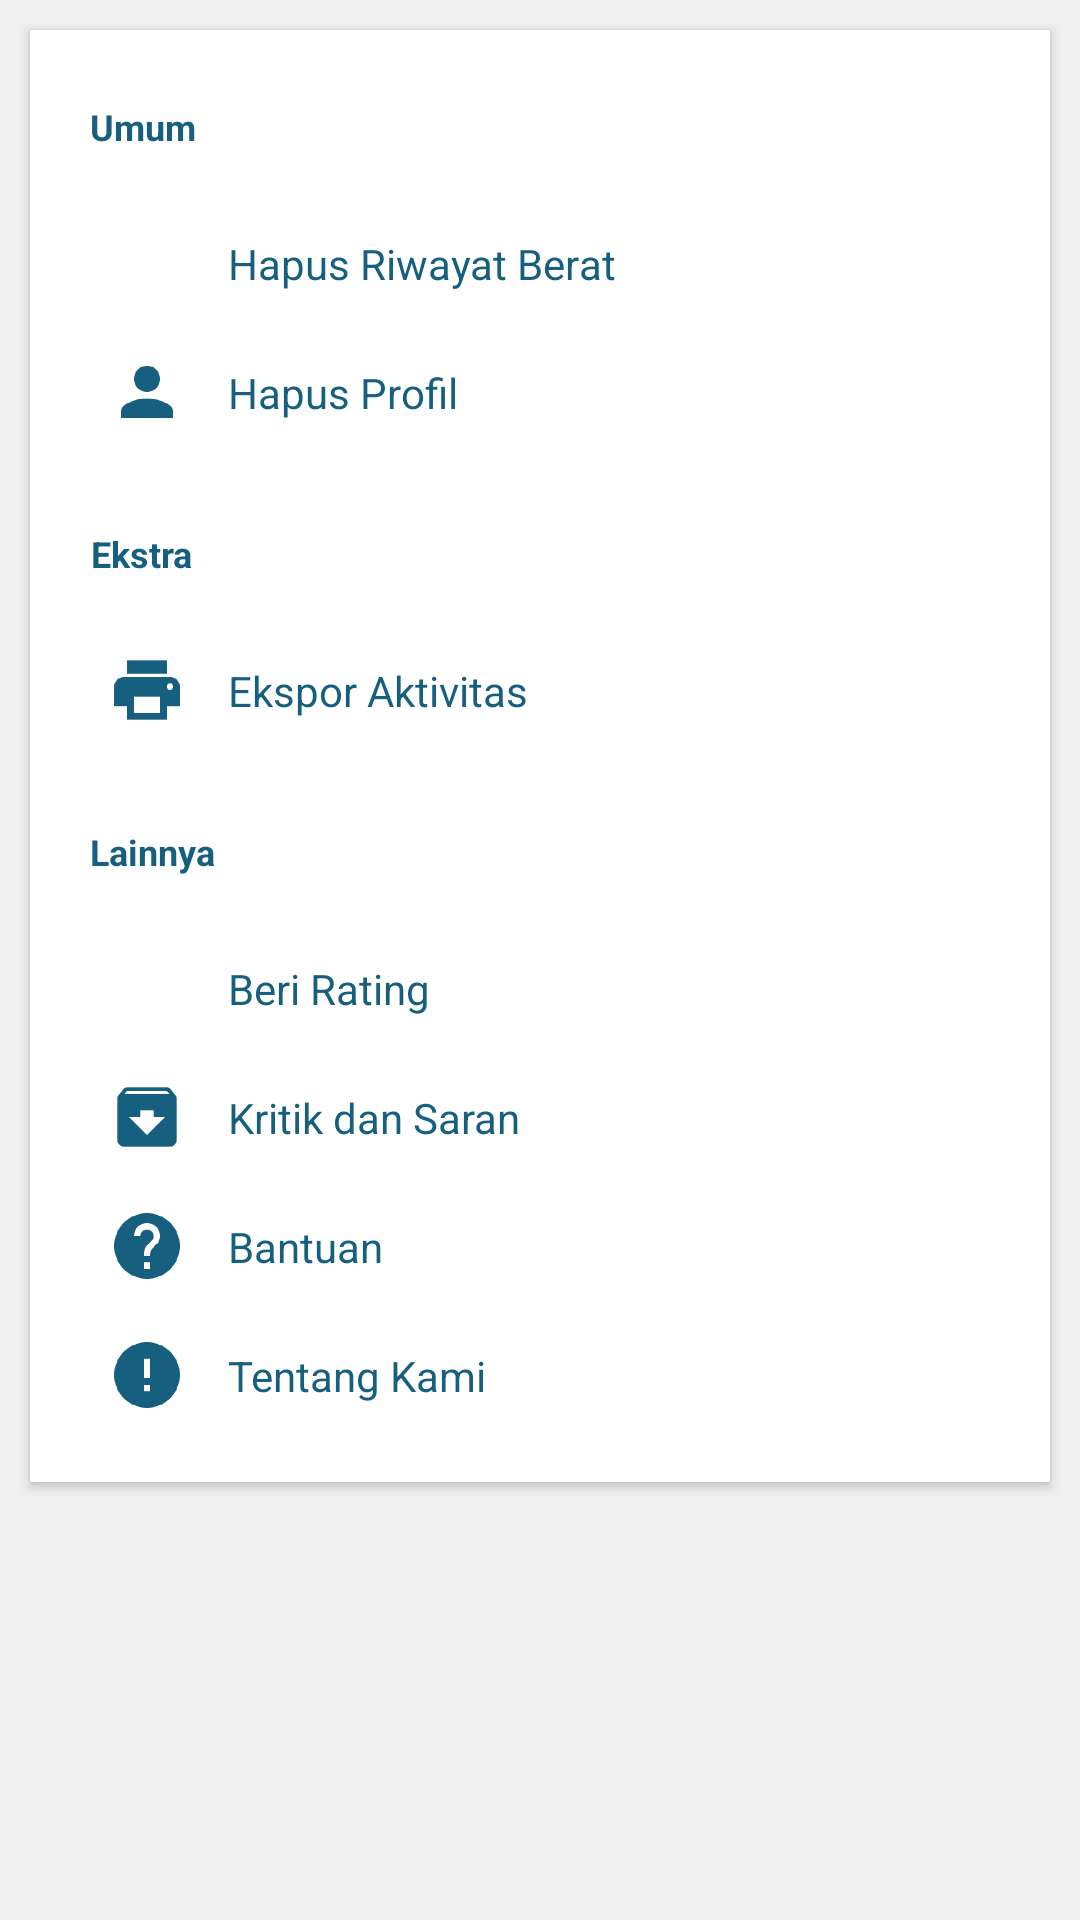

Named icons in this screenshot (1080px×1920px) and their centers, point (x, y):
pengaturan ekspor: point (147, 690)
pengaturan reset identitas: point (147, 392)
